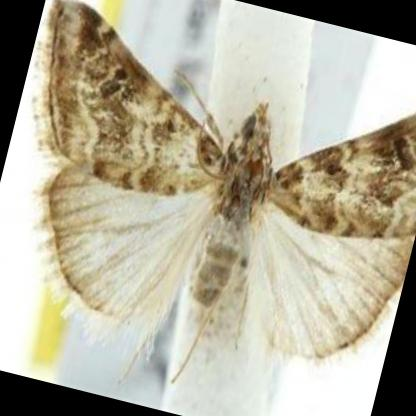Hellula undalis: (35, 0, 416, 388)
